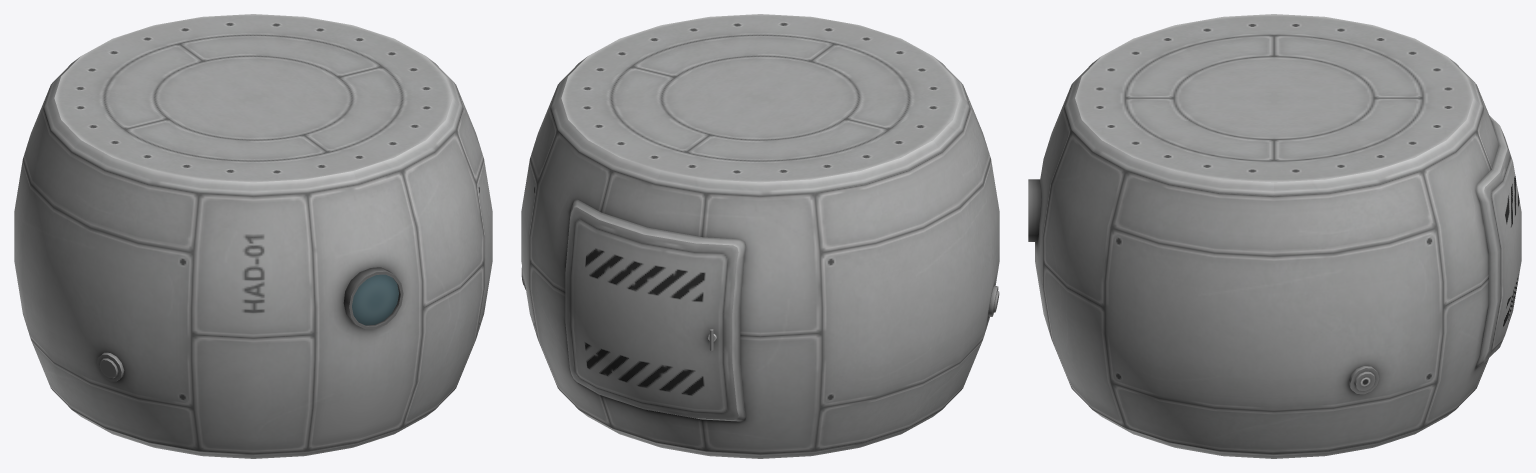
File: Hadar_Crew_1.obj
The picture shows the model from 3 angles, left to right: view 1: azimuth 30°, elevation 25°; view 2: azimuth 150°, elevation 25°; view 3: azimuth 270°, elevation 25°; orthographic projection.
Parts seen in each view (by area): view 1: Hadar_Crew_1, Hadar_Crew_1_Window; view 2: Hadar_Crew_1; view 3: Hadar_Crew_1.
Part boxes in pixels (x1,y1,x2,y2): Hadar_Crew_1: (14, 14, 492, 458); Hadar_Crew_1_Window: (352, 274, 398, 325); Hadar_Crew_1: (521, 14, 999, 458); Hadar_Crew_1: (1028, 14, 1521, 458).
Size of the model in its own units: 1.43 by 0.91 by 1.47.
